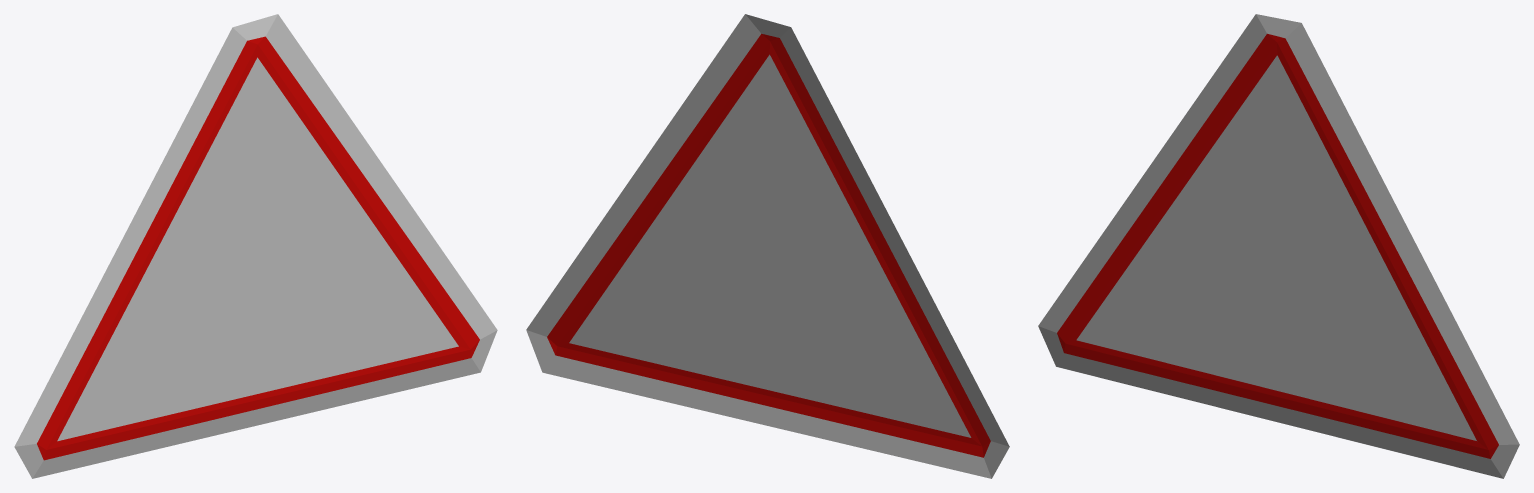
The model's file is ui_tradeOfferMarker.glb.
3 renders of one model, left to right at view 1: azimuth 30°, elevation 25°; view 2: azimuth 150°, elevation 25°; view 3: azimuth 330°, elevation 25°, orthographic.
Visible parts, largest first — view 1: Cylinder; view 2: Cylinder; view 3: Cylinder.
Boxes of the visible parts, x1,y1,x2,y2 form: Cylinder: (14,14,497,478); Cylinder: (526,14,1009,478); Cylinder: (1038,14,1519,478).
Size of the model in its own units: 1.91 by 1.54 by 0.018.
